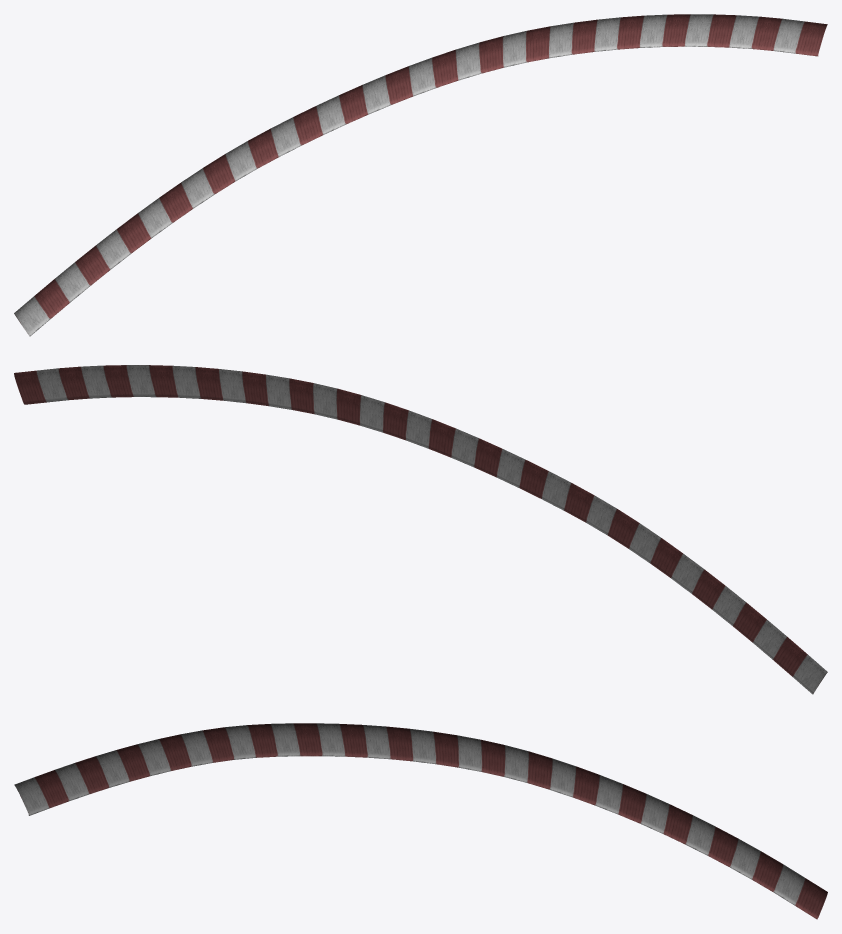
The model's file is _1KERB_02_04_Scene.242.obj.
3 renders of one model, top to bottom at view 1: azimuth 30°, elevation 25°; view 2: azimuth 150°, elevation 25°; view 3: azimuth 330°, elevation 25°, orthographic.
Parts seen in each view (by area): view 1: _1KERB_02_04_Scene.242; view 2: _1KERB_02_04_Scene.242; view 3: _1KERB_02_04_Scene.242.
Boxes of the visible parts, x1,y1,x2,y2 form: _1KERB_02_04_Scene.242: (14, 14, 827, 336); _1KERB_02_04_Scene.242: (14, 365, 827, 694); _1KERB_02_04_Scene.242: (14, 723, 827, 919).
Size of the model in its own units: 34.95 by 7.7 by 0.4283.
